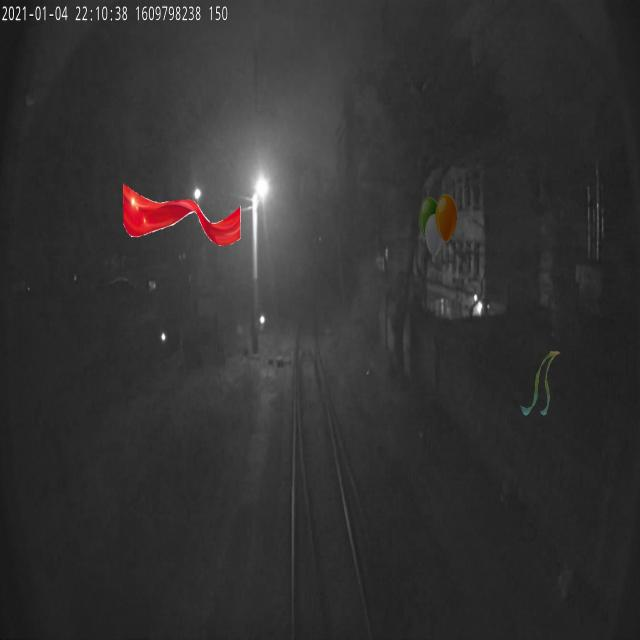balloon: (419, 194, 457, 258)
floating object: (120, 183, 243, 247), (520, 352, 562, 416)
